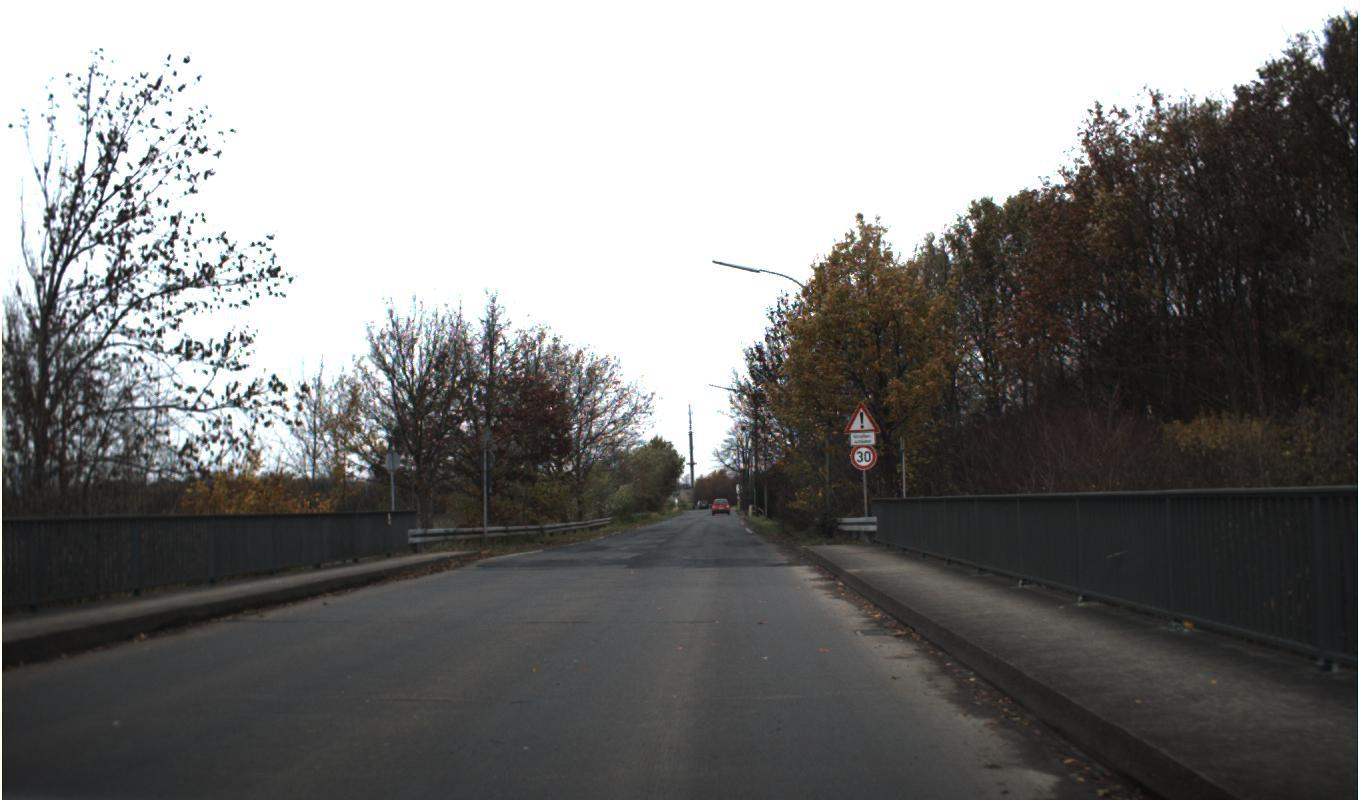18: (842, 400, 881, 435)
speed limit 30 prohibitory: (849, 443, 877, 471)
